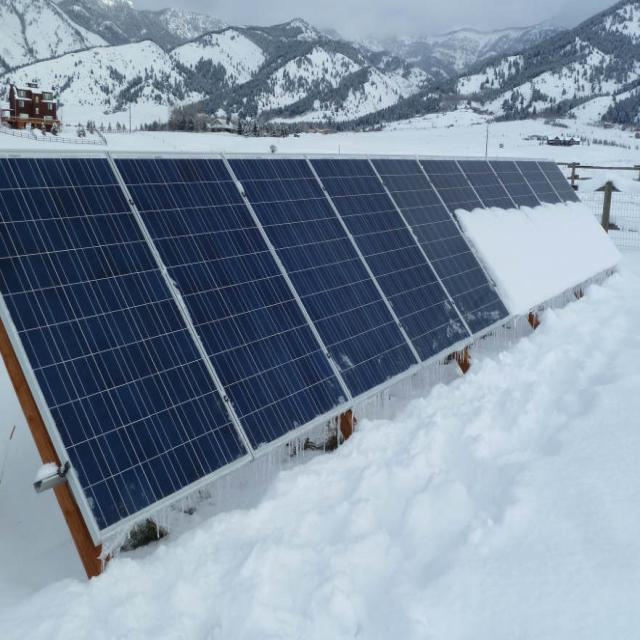snow covered: (442, 167, 640, 329)
